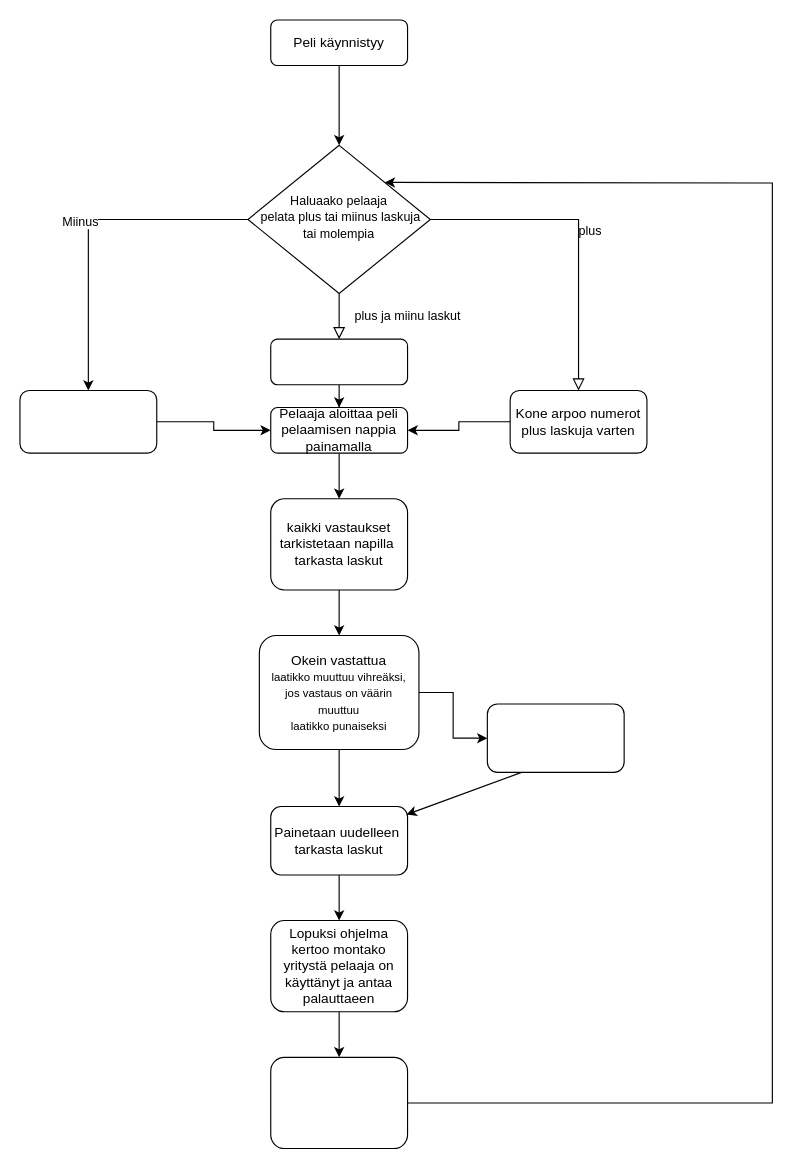
The diagram is 801 pixels wide and 1169 high, and some of its shapes have lost their labels. Here are the shapes that lost their labels. From the top down, the centre of each, then its label:
the point at 339,361: Kone arpoo numerot plus ja miinus laskuja varten
the point at 88,421: kone arpoo numerot miinus laskuja varten
the point at 555,737: Väärin vastatun laatikon viereen ilmestyy nappi näytä oikea vastaus
the point at 339,1102: pelaaja voi uudelleen jos valitsee napista pelaa uudelleen!
